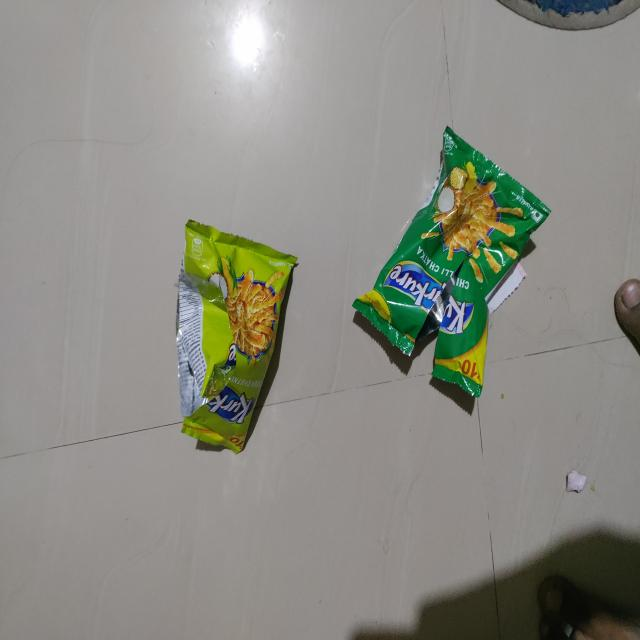dry: (360, 76, 570, 437), (160, 176, 303, 467)
